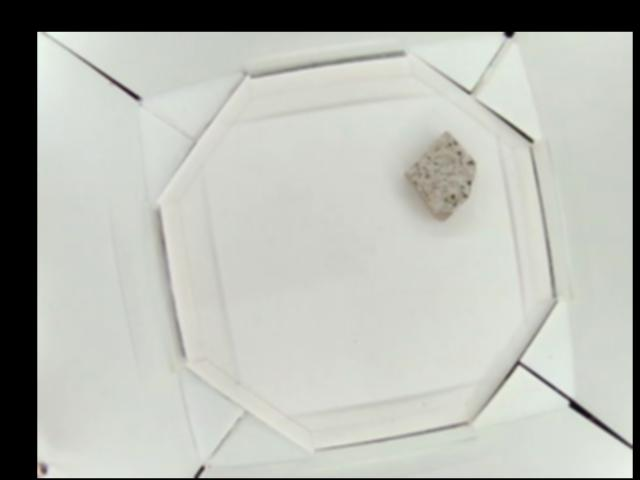China: (405, 131, 476, 222)
